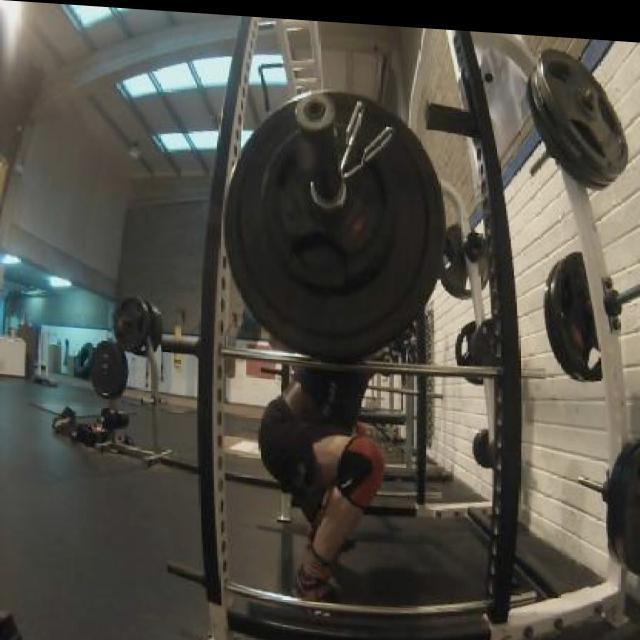barbell: (217, 78, 454, 361)
